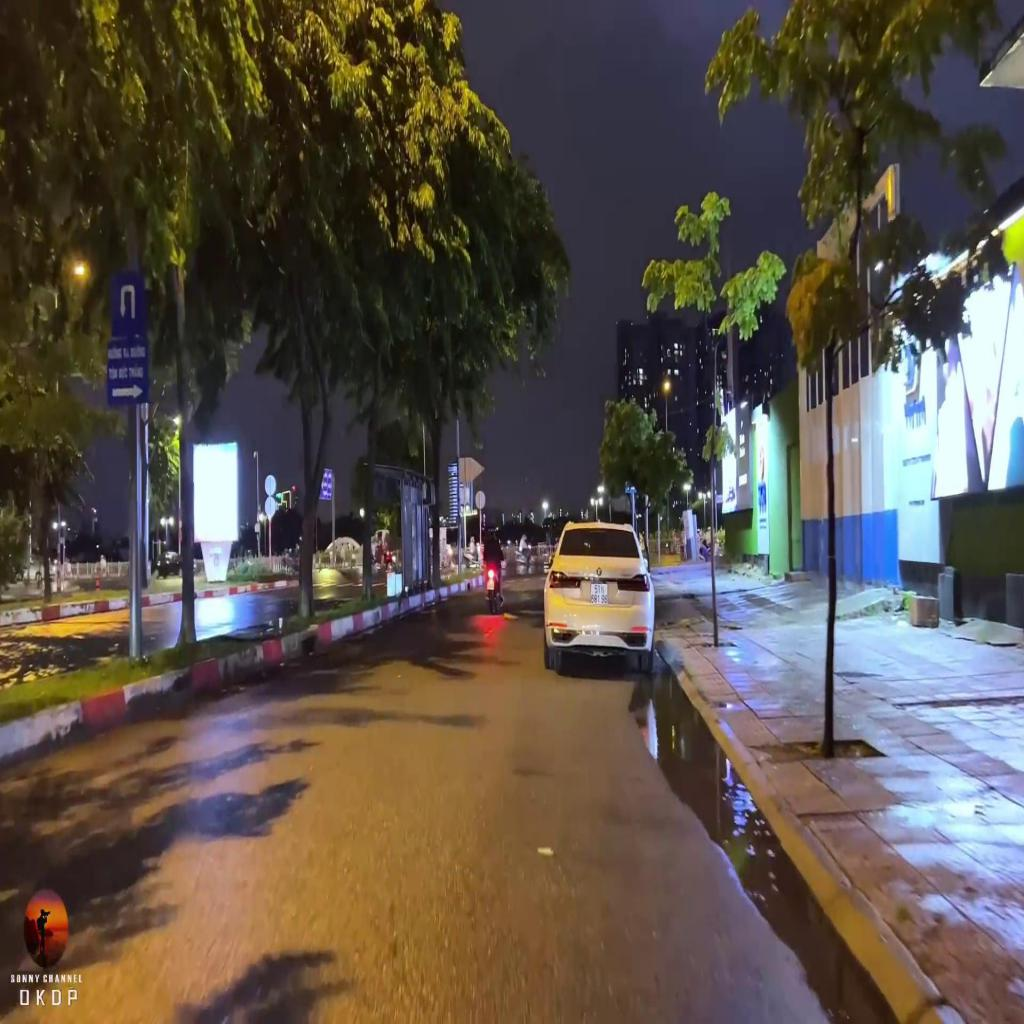cho_quay_xe: (112, 274, 144, 337)
khac: (107, 338, 147, 405)
lan_duong_cho_tung_xe_theo_vach_ke_duong: (318, 469, 332, 500)
